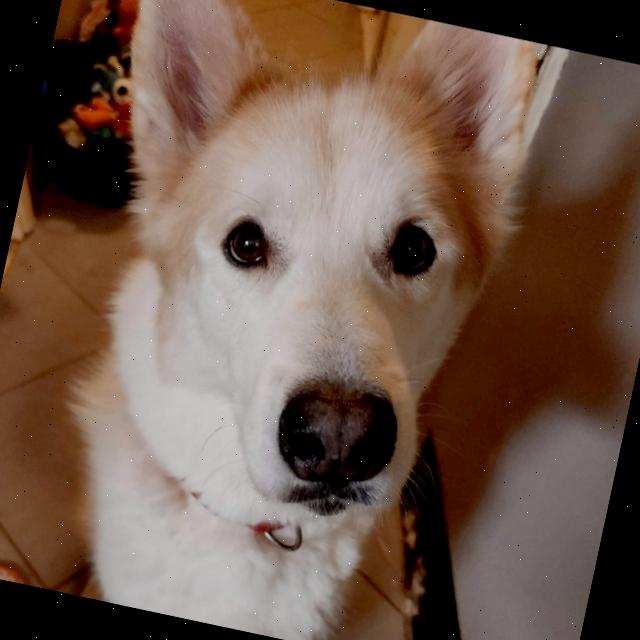siberian_husky_dog: (17, 0, 591, 563)
